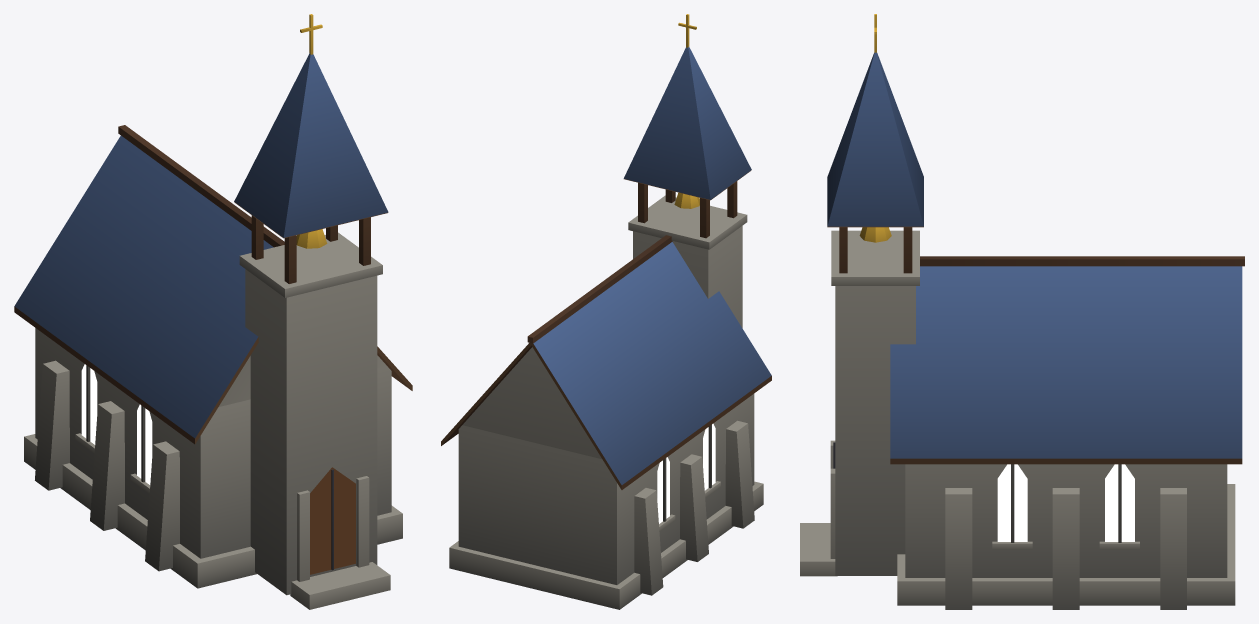
Rendered from b_chapel.glb.
3 views of the same model, side by side, from view 1: azimuth 30°, elevation 25°; view 2: azimuth 150°, elevation 25°; view 3: azimuth 270°, elevation 25° (orthographic). The views are drawn at different scales.
Parts seen in each view (by area): view 1: stone, roof, wood, glow, plain; view 2: stone, roof, wood, glow, plain; view 3: roof, stone, wood, glow, plain.
Part boxes in pixels (x1=…): stone: x1=24, y1=232, x2=402, y2=609; roof: x1=14, y1=53, x2=388, y2=438; wood: x1=14, y1=125, x2=412, y2=574; glow: x1=81, y1=364, x2=152, y2=484; plain: x1=296, y1=14, x2=333, y2=570; stone: x1=449, y1=195, x2=763, y2=609; roof: x1=533, y1=47, x2=771, y2=484; wood: x1=441, y1=170, x2=771, y2=489; glow: x1=657, y1=423, x2=715, y2=523; plain: x1=674, y1=14, x2=699, y2=208; roof: x1=827, y1=52, x2=1242, y2=458; stone: x1=800, y1=230, x2=1235, y2=609; wood: x1=827, y1=226, x2=1244, y2=464; glow: x1=997, y1=464, x2=1134, y2=541; plain: x1=833, y1=14, x2=891, y2=468.
Size of the model in its own units: 4.89 by 11.15 by 8.29.
